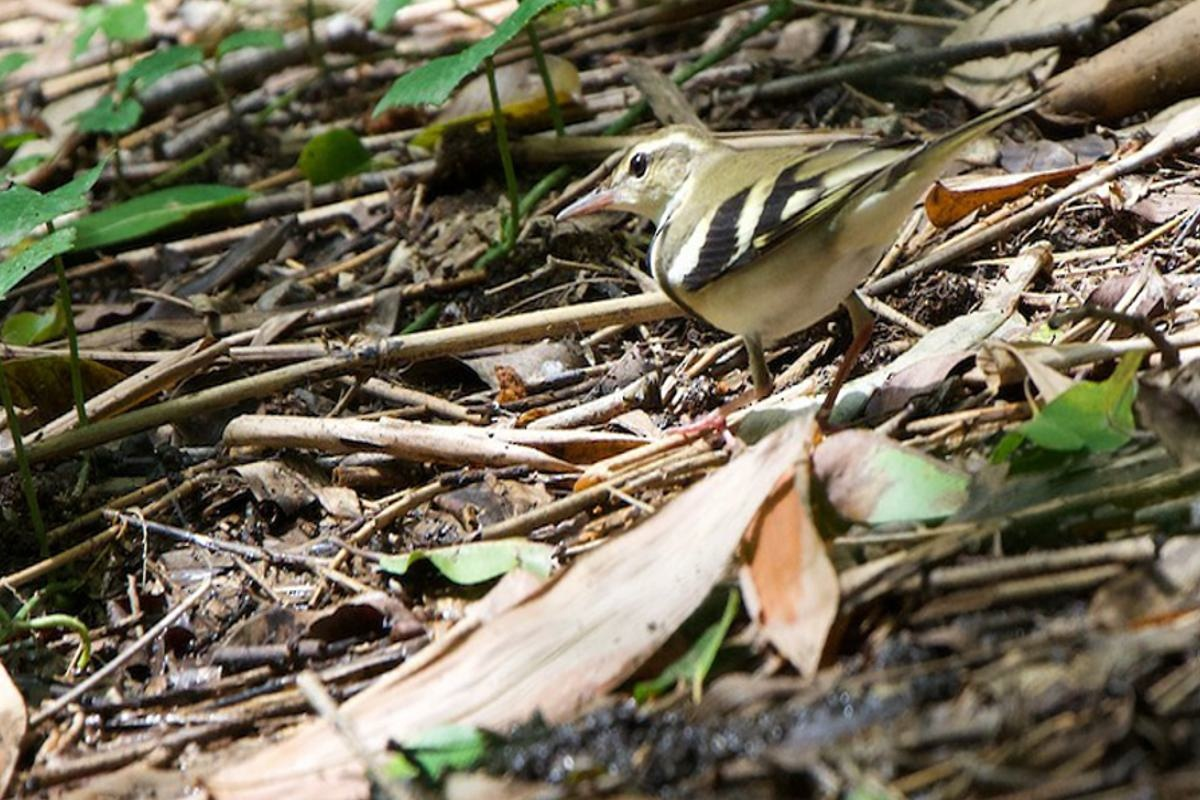wagtail: (573, 101, 960, 361)
